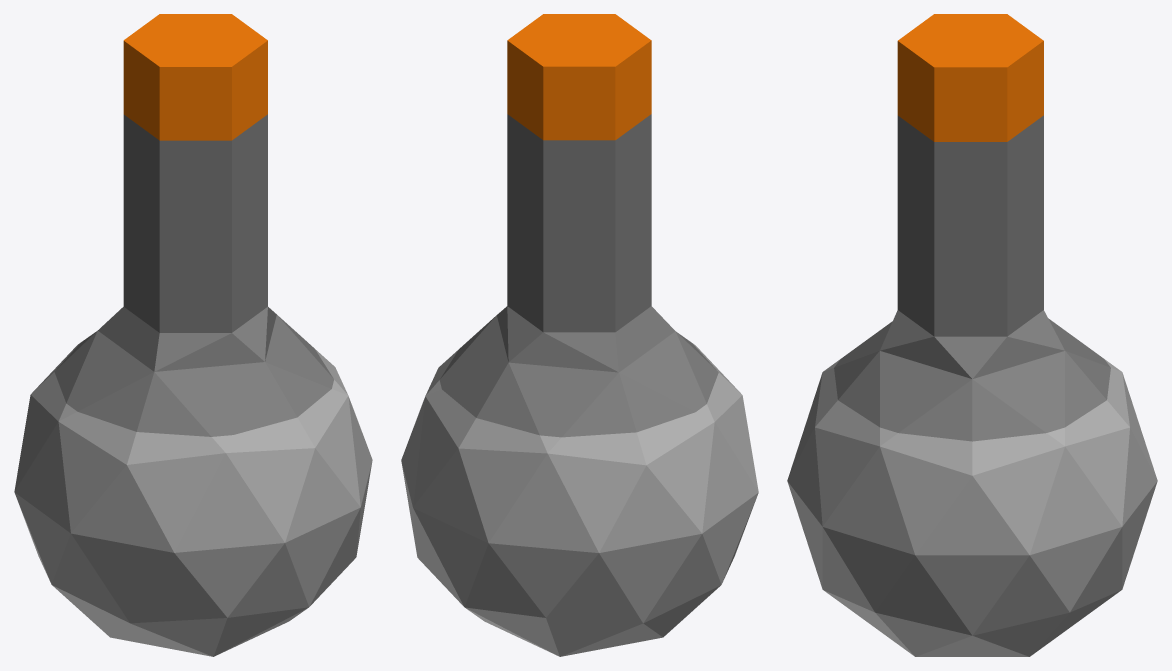
File: vial_754x00.gltf
3 views of the same model, side by side, from view 1: azimuth 30°, elevation 25°; view 2: azimuth 150°, elevation 25°; view 3: azimuth 270°, elevation 25° (orthographic).
Visible parts, largest first — view 1: vial_754x00; view 2: vial_754x00; view 3: vial_754x00.
Part boxes in pixels (x1,y1,x2,y2): vial_754x00: (14,14,372,656); vial_754x00: (401,14,758,656); vial_754x00: (787,14,1157,656).
Bounding box in the file's own units: 0.497 × 0.9473 × 0.5225.
Materials: 2 (2 with a texture image).
